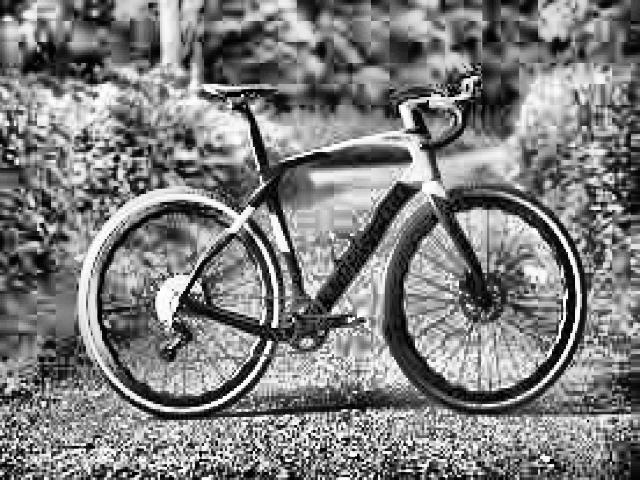cranks_set: (278, 293, 358, 355)
pedal: (344, 311, 369, 327)
rear_derailleur: (158, 316, 196, 364)
saddle: (202, 81, 276, 107)
wheel: (73, 184, 283, 424), (379, 179, 588, 412)
